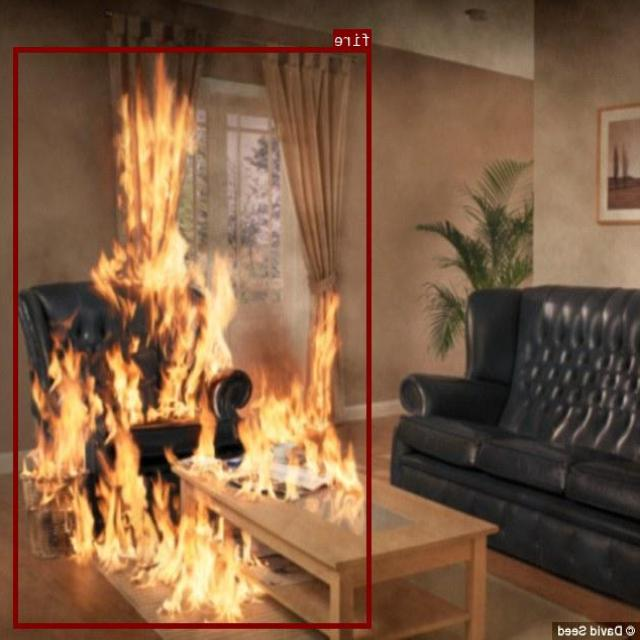fire: (15, 47, 372, 627)
